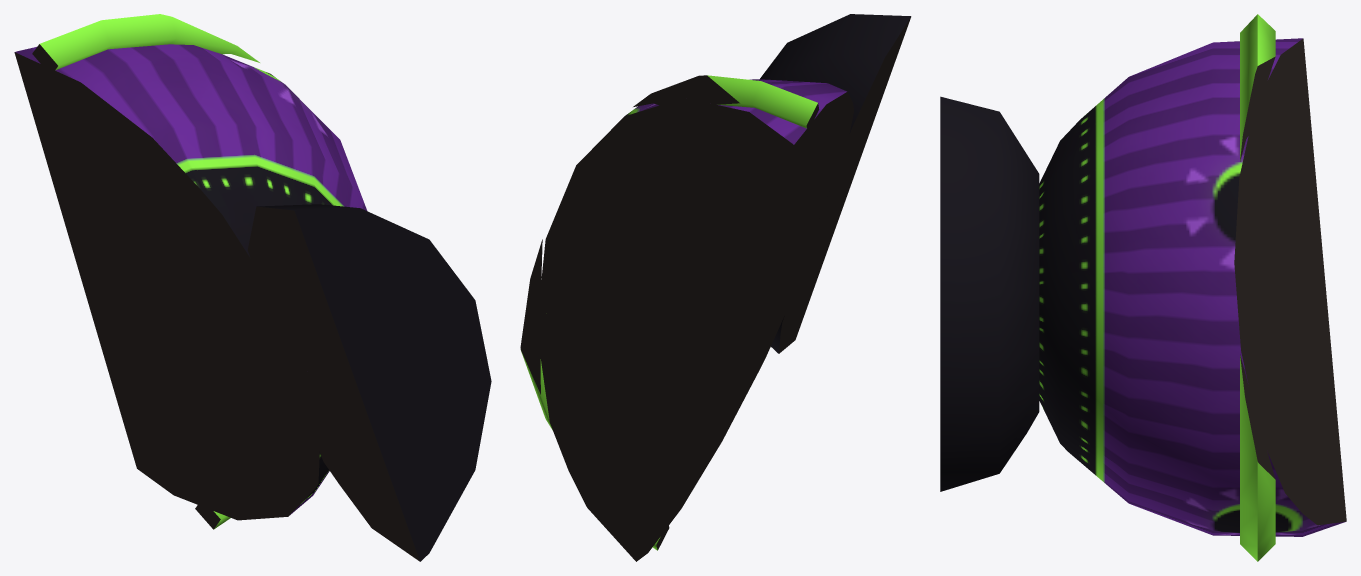
File: dominion_turret_pod_debris3.obj
3 views of the same model, side by side, from view 1: azimuth 30°, elevation 25°; view 2: azimuth 150°, elevation 25°; view 3: azimuth 270°, elevation 25° (orthographic). The views are drawn at different scales.
Parts seen in each view (by area): view 1: orb, collar, band; view 2: orb, collar, band; view 3: orb, collar, band.
Boxes of the visible parts, x1,y1,x2,y2 form: orb: [14, 44, 367, 520]; collar: [247, 204, 491, 561]; band: [32, 14, 259, 529]; orb: [539, 79, 853, 561]; collar: [760, 14, 911, 353]; band: [520, 75, 819, 550]; orb: [1039, 38, 1346, 536]; collar: [940, 96, 1039, 491]; band: [1240, 14, 1275, 561].
Size of the model in its own units: 3.35 by 5.32 by 4.1.
4 materials, 1 textured.
